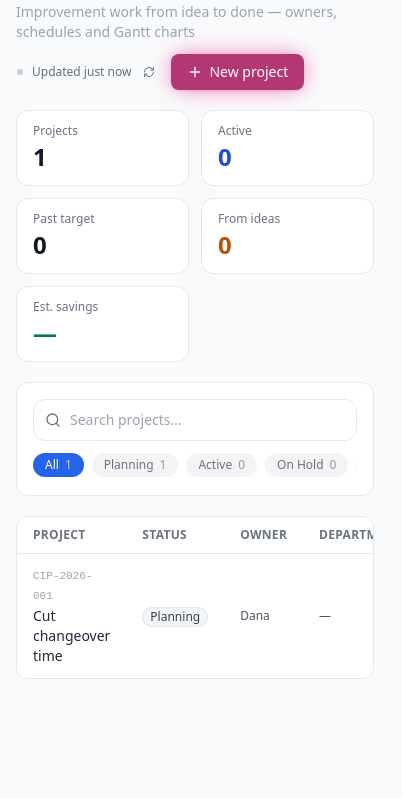
Test: CI Projects list — empty states › offers to CLEAR when projects exist but none match the filter
Expected: the text "Cut changeover time" is shown, [33,606,110,666]
# …and gone once a status nothing matches is selected.
Click the button "Active0": x=222, y=465 [186,453,257,477]
(page scrolled)
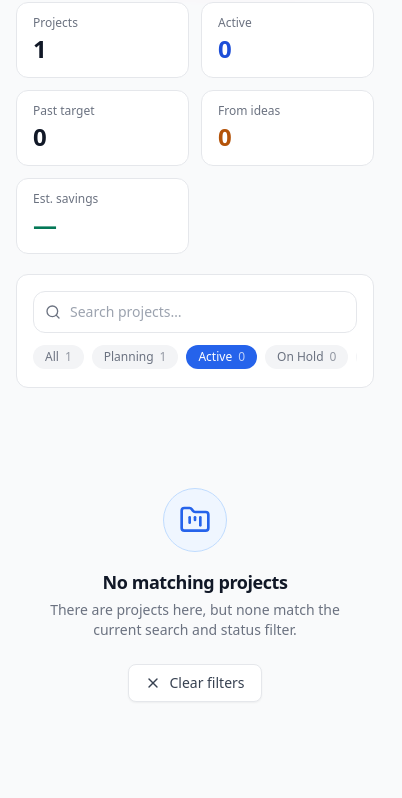
Now the element with test id "ci-empty-filters" is shown, box [50,488,340,702]
Now the heading "No matching projects" is shown, box [103,568,287,596]
Now the button "Clear filters" is shown
# Clearing puts the row back.
Click the button "Clear filters": x=195, y=683 [128,664,262,702]
(page scrolled)
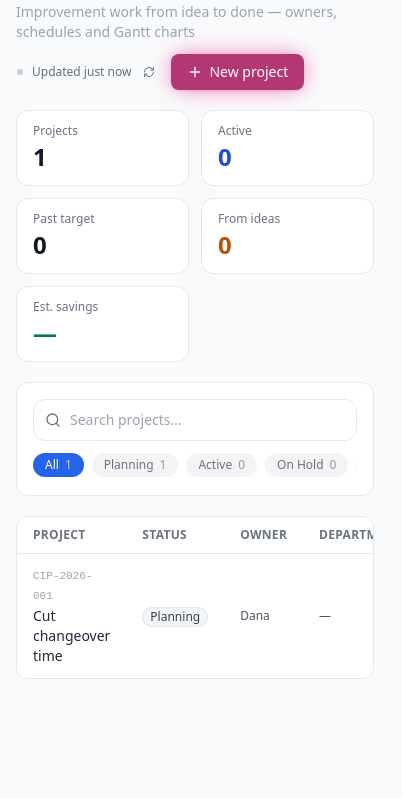
Now the text "Cut changeover time" is shown, box [33,606,110,666]
